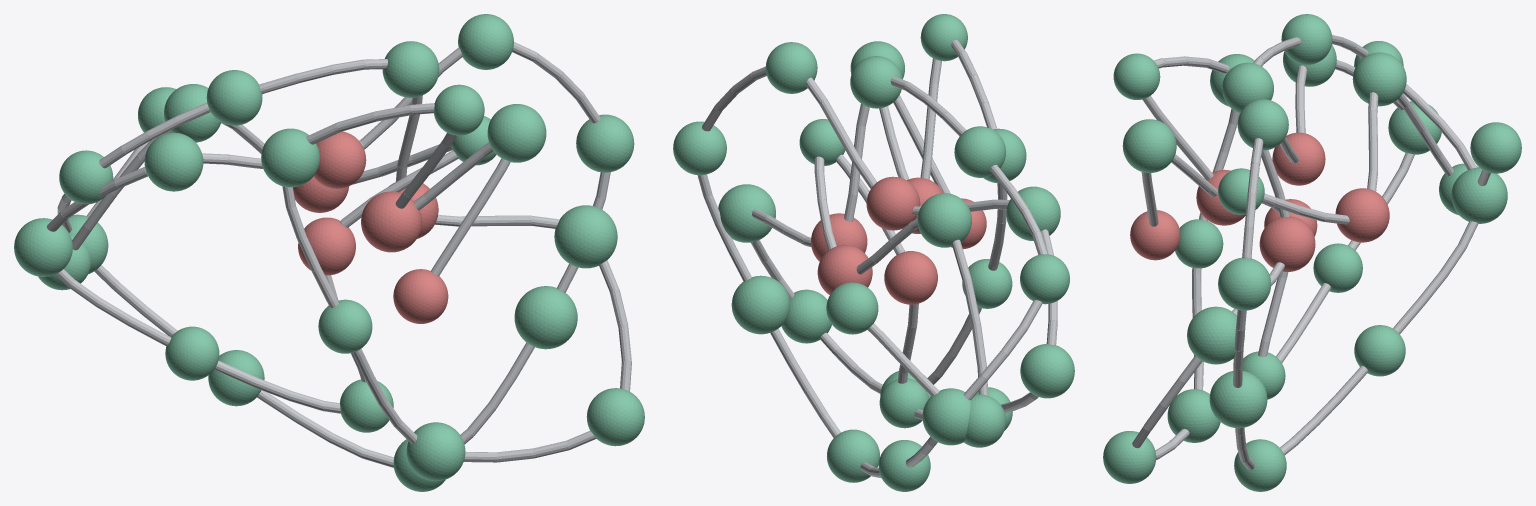
Rendered from proteina_1_30aa_4590406.glb.
3 renders of one model, left to right at view 1: azimuth 30°, elevation 25°; view 2: azimuth 150°, elevation 25°; view 3: azimuth 270°, elevation 25°, orthographic. The views are drawn at different scales.
Parts seen in each view (by area): view 1: geometry_353, geometry_361, geometry_347, geometry_365, geometry_346, geometry_349, geometry_351, geometry_352, geometry_366, geometry_362, geometry_355, geometry_363 (+18 smaller); view 2: geometry_361, geometry_353, geometry_366, geometry_372, geometry_369, geometry_364, geometry_362, geometry_358, geometry_374, geometry_360, geometry_355, geometry_363 (+19 smaller); view 3: geometry_361, geometry_354, geometry_353, geometry_358, geometry_346, geometry_362, geometry_371, geometry_372, geometry_352, geometry_374, geometry_359, geometry_351 (+18 smaller).
Boxes of the visible parts, left/top/right/bottom form: geometry_353: left=554, top=205, right=617, bottom=268; geometry_361: left=514, top=286, right=577, bottom=349; geometry_347: left=361, top=191, right=421, bottom=252; geometry_365: left=144, top=132, right=203, bottom=191; geometry_346: left=487, top=104, right=546, bottom=162; geometry_349: left=261, top=128, right=319, bottom=187; geometry_351: left=406, top=422, right=465, bottom=481; geometry_352: left=586, top=388, right=644, bottom=446; geometry_366: left=14, top=218, right=72, bottom=276; geometry_362: left=576, top=114, right=634, bottom=172; geometry_355: left=382, top=41, right=439, bottom=97; geometry_363: left=458, top=14, right=513, bottom=69; geometry_361: left=731, top=275, right=790, bottom=334; geometry_353: left=718, top=184, right=775, bottom=242; geometry_366: left=1020, top=344, right=1074, bottom=398; geometry_372: left=917, top=193, right=971, bottom=247; geometry_369: left=884, top=251, right=937, bottom=304; geometry_364: left=866, top=176, right=920, bottom=230; geometry_362: left=673, top=121, right=726, bottom=175; geometry_358: left=922, top=388, right=970, bottom=445; geometry_374: left=826, top=282, right=878, bottom=334; geometry_360: left=827, top=429, right=879, bottom=482; geometry_355: left=850, top=56, right=902, bottom=108; geometry_363: left=765, top=42, right=817, bottom=93; geometry_361: left=1209, top=371, right=1267, bottom=428; geometry_354: left=1259, top=216, right=1315, bottom=271; geometry_353: left=1187, top=306, right=1244, bottom=364; geometry_358: left=1451, top=167, right=1507, bottom=223; geometry_346: left=1122, top=119, right=1176, bottom=172; geometry_362: left=1218, top=257, right=1271, bottom=310; geometry_371: left=1335, top=188, right=1389, bottom=242; geometry_372: left=1352, top=52, right=1406, bottom=106; geometry_352: left=1103, top=431, right=1156, bottom=483; geometry_374: left=1470, top=122, right=1521, bottom=173; geometry_359: left=1354, top=325, right=1405, bottom=376; geometry_351: left=1167, top=389, right=1220, bottom=442.
Bounding box in the file's own units: 12.6 × 10.65 × 9.62.
